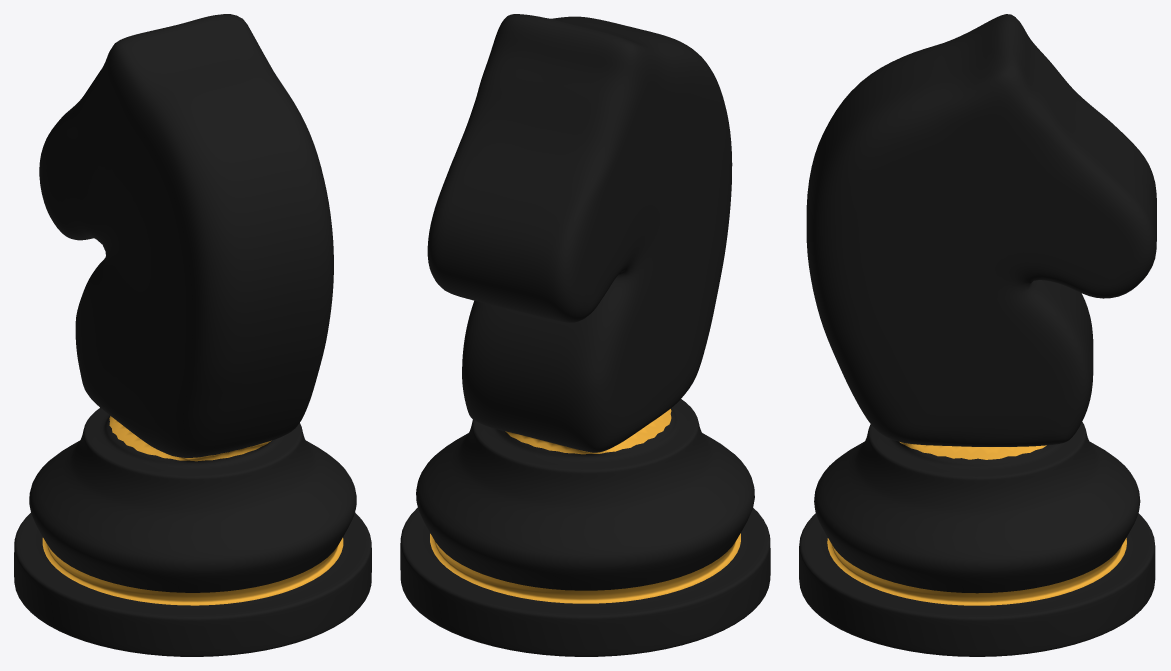
Rendered from knight.glb.
3 renders of one model, left to right at view 1: azimuth 30°, elevation 25°; view 2: azimuth 150°, elevation 25°; view 3: azimuth 270°, elevation 25°, orthographic. The views are drawn at different scales.
Parts seen in each view (by area): view 1: Circle.030; view 2: Circle.030; view 3: Circle.030.
Boxes of the visible parts, x1,y1,x2,y2 form: Circle.030: (14, 14, 371, 656); Circle.030: (400, 14, 770, 656); Circle.030: (799, 14, 1156, 656).
Size of the model in its own units: 27.61 by 46.54 by 27.74.
